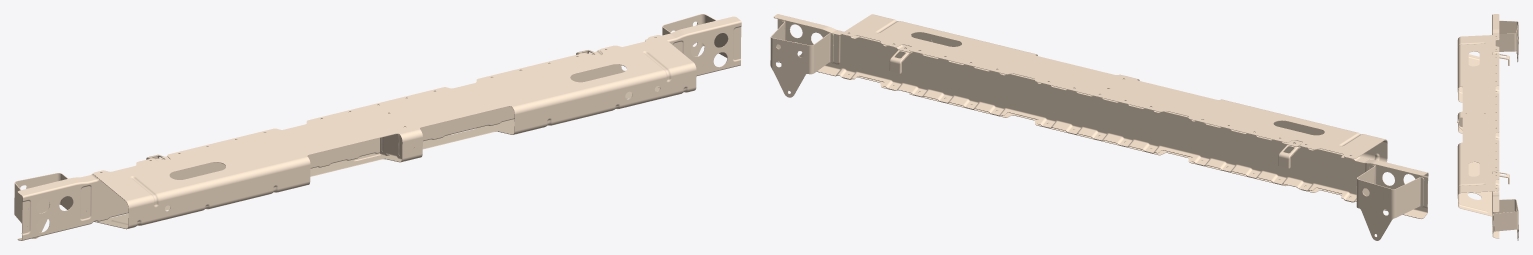
The model's file is RAV4-houfangzhaungliang.glb.
3 views of the same model, side by side, from view 1: azimuth 30°, elevation 25°; view 2: azimuth 150°, elevation 25°; view 3: azimuth 270°, elevation 25° (orthographic). The views are drawn at different scales.
Parts seen in each view (by area): view 1: Face (×10); view 2: Face (×8); view 3: Face (×14).
Part boxes in pixels (x1=…): Face (×10): x1=17, y1=14, x2=741, y2=239; Face (×8): x1=773, y1=14, x2=1428, y2=240; Face (×14): x1=1457, y1=14, x2=1518, y2=238.
Size of the model in its own units: 1.27 by 0.1162 by 0.1671.
